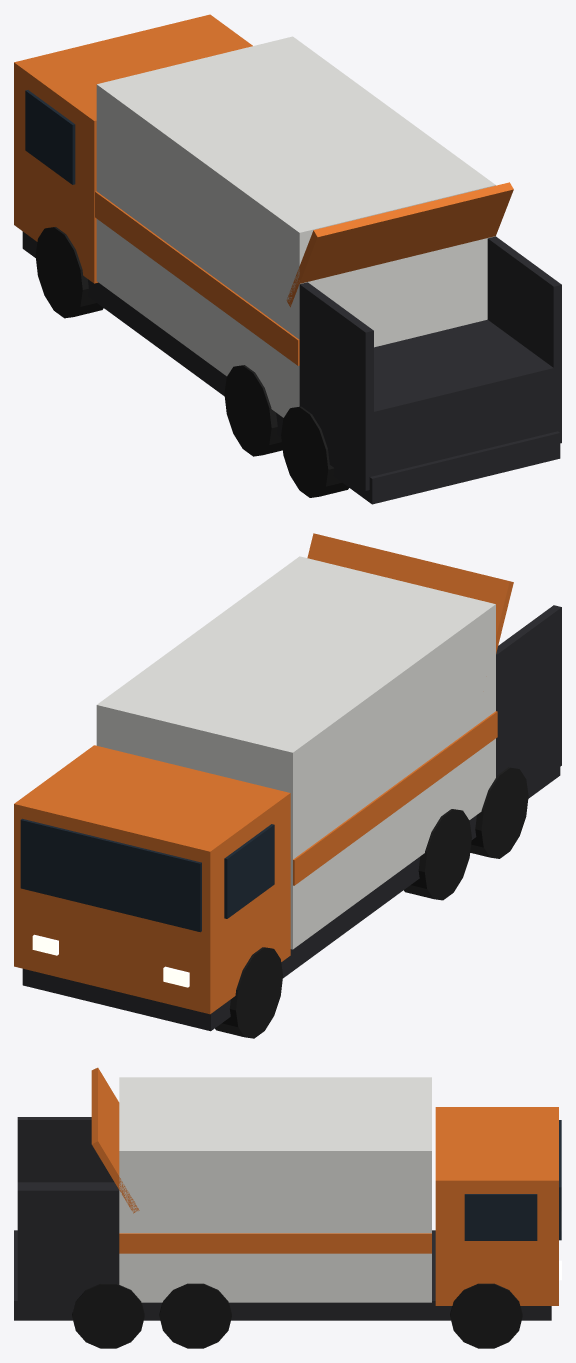
File: garbage_truck.glb
3 renders of one model, top to bottom at view 1: azimuth 30°, elevation 25°; view 2: azimuth 150°, elevation 25°; view 3: azimuth 270°, elevation 25°, orthographic. The views are drawn at different scales.
Parts seen in each view (by area): view 1: box_truck_white, hopper_truck_dark, cab_truck_orange, wheel_truck_wheel, hopper_truck_orange, body_truck_dark, box_truck_orange, cab_truck_glass; view 2: box_truck_white, cab_truck_orange, cab_truck_glass, wheel_truck_wheel, hopper_truck_dark, body_truck_dark, hopper_truck_orange, box_truck_orange, lights_truck_light; view 3: box_truck_white, cab_truck_orange, hopper_truck_dark, wheel_truck_wheel, box_truck_orange, body_truck_dark, cab_truck_glass, hopper_truck_orange.
Part boxes in pixels (x1=…): box_truck_white: x1=96, y1=36, x2=495, y2=417; hopper_truck_dark: x1=299, y1=236, x2=561, y2=490; cab_truck_orange: x1=14, y1=14, x2=252, y2=283; wheel_truck_wheel: x1=35, y1=227, x2=348, y2=497; hopper_truck_orange: x1=286, y1=182, x2=513, y2=307; body_truck_dark: x1=22, y1=231, x2=560, y2=504; box_truck_orange: x1=95, y1=191, x2=299, y2=365; cab_truck_glass: x1=25, y1=90, x2=75, y2=184; box_truck_white: x1=96, y1=556, x2=495, y2=949; cab_truck_orange: x1=14, y1=745, x2=290, y2=1014; cab_truck_glass: x1=20, y1=818, x2=274, y2=932; wheel_truck_wheel: x1=215, y1=767, x2=528, y2=1038; hopper_truck_dark: x1=496, y1=605, x2=561, y2=789; body_truck_dark: x1=22, y1=767, x2=560, y2=1031; hopper_truck_orange: x1=307, y1=533, x2=513, y2=653; box_truck_orange: x1=293, y1=711, x2=497, y2=885; lights_truck_light: x1=32, y1=934, x2=189, y2=987; box_truck_white: x1=119, y1=1077, x2=431, y2=1302; cab_truck_orange: x1=435, y1=1107, x2=558, y2=1305; hopper_truck_dark: x1=17, y1=1117, x2=119, y2=1312; wheel_truck_wheel: x1=72, y1=1283, x2=522, y2=1348; box_truck_orange: x1=119, y1=1233, x2=431, y2=1253; body_truck_dark: x1=14, y1=1230, x2=551, y2=1320; cab_truck_glass: x1=464, y1=1120, x2=561, y2=1240; hopper_truck_orange: x1=91, y1=1067, x2=139, y2=1213.
Bounding box in the file's own units: 2.47 × 3.14 × 7.54.
